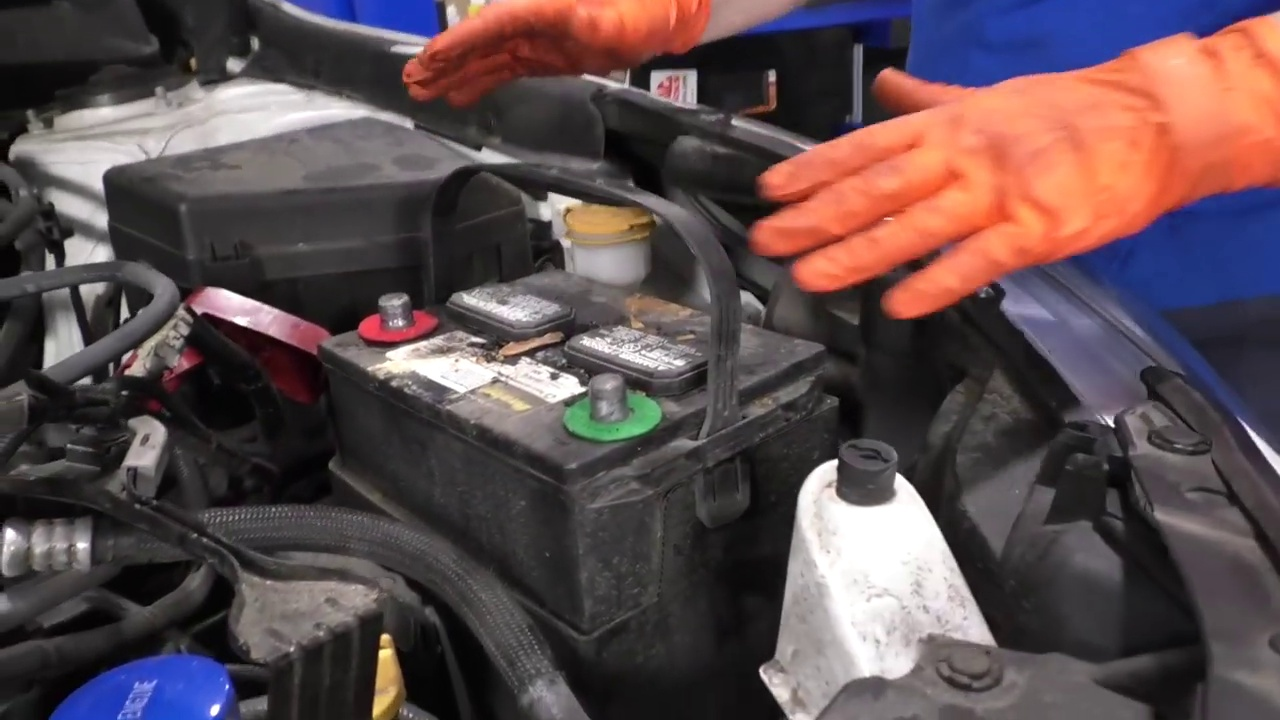battery: (328, 260, 821, 473)
neg_disconnected: (543, 324, 672, 463)
pos_disconnected: (190, 270, 466, 403)
